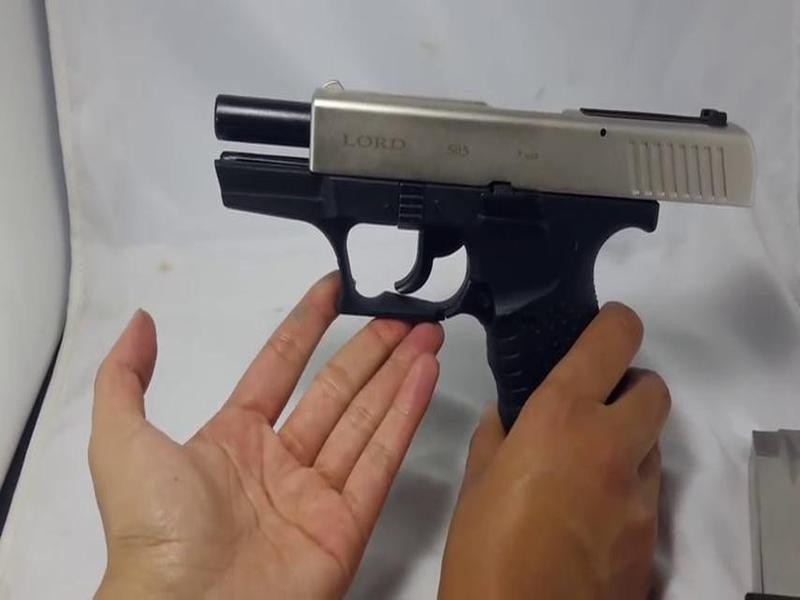Pistola: (209, 66, 758, 459)
